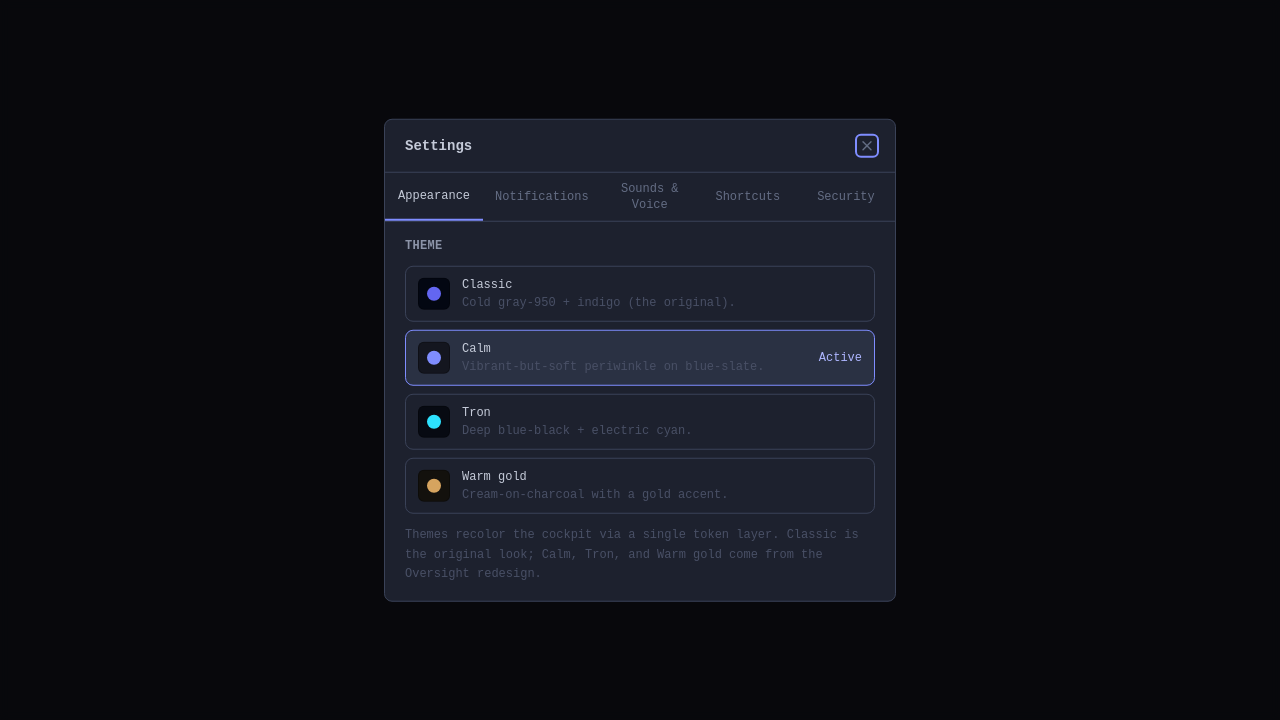
Test: SettingsModal — tab switching › switches to Sounds & Voice tab
Click the button "Sounds & Voice": (650, 197) [601,173,699,221]
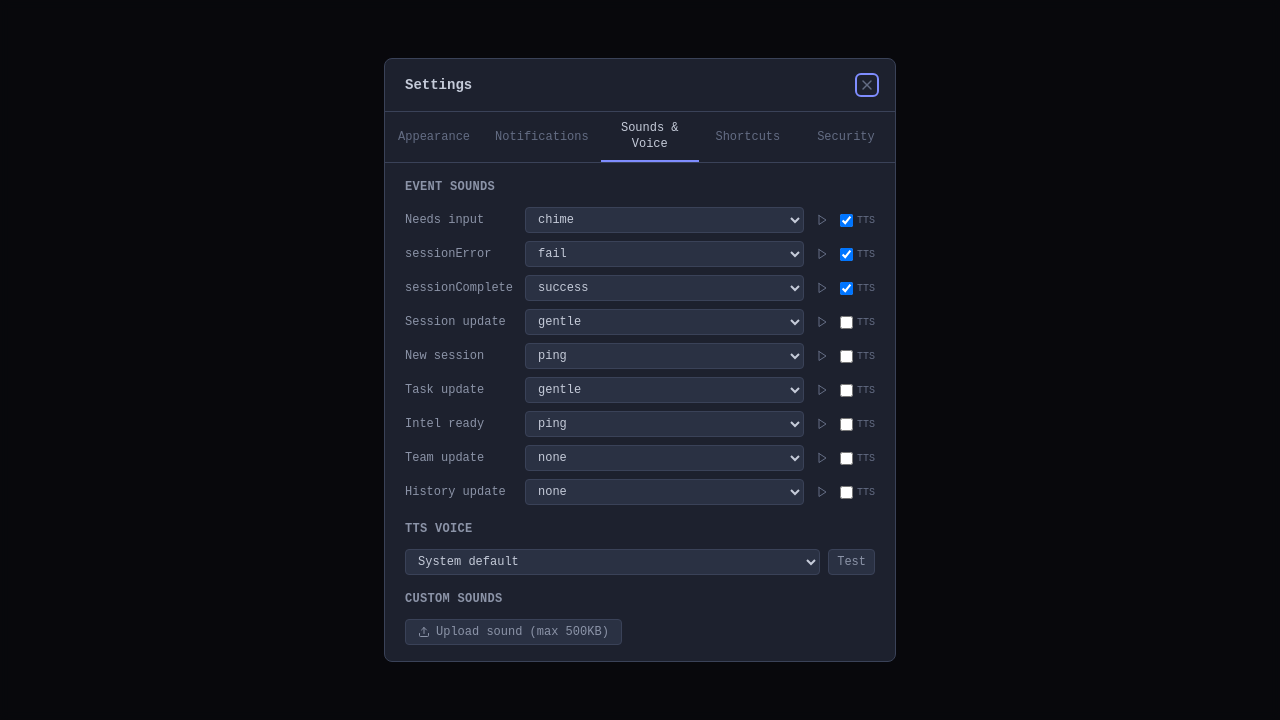
Result: the heading "Event Sounds" is shown at [405,180,495,194]
Result: the heading "TTS Voice" is shown at [405,522,472,536]
